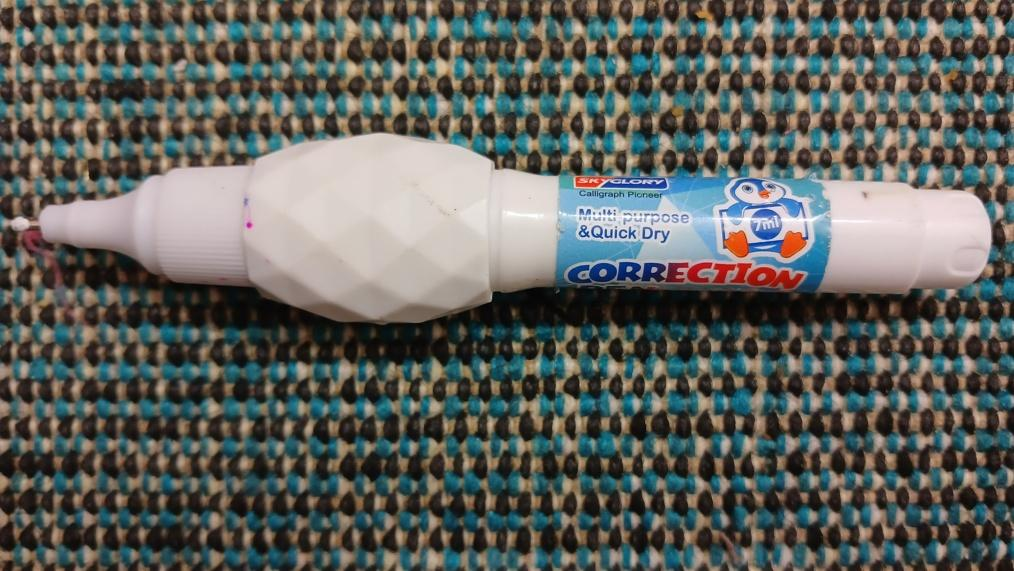Correction pen: (1, 136, 999, 326)
